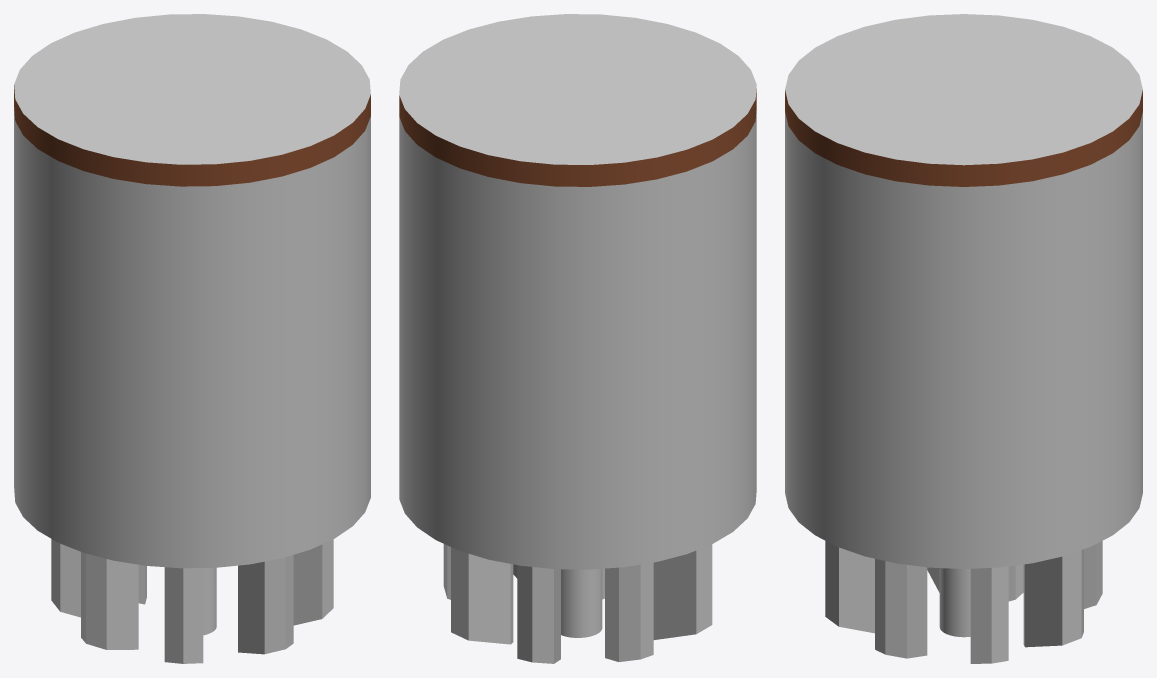
The model's file is new_hole.fbx.
3 renders of one model, left to right at view 1: azimuth 30°, elevation 25°; view 2: azimuth 150°, elevation 25°; view 3: azimuth 270°, elevation 25°, orthographic.
Visible parts, largest first — view 1: new_hole, new_hole_mask; view 2: new_hole, new_hole_mask; view 3: new_hole, new_hole_mask.
Boxes of the visible parts, x1,y1,x2,y2 form: new_hole: (14, 85, 370, 663); new_hole_mask: (14, 14, 370, 164); new_hole: (399, 89, 756, 663); new_hole_mask: (399, 14, 756, 164); new_hole: (785, 90, 1142, 663); new_hole_mask: (785, 14, 1142, 165).
Size of what is drawn, in the model's own units: 10.8 by 17.93 by 10.8.
